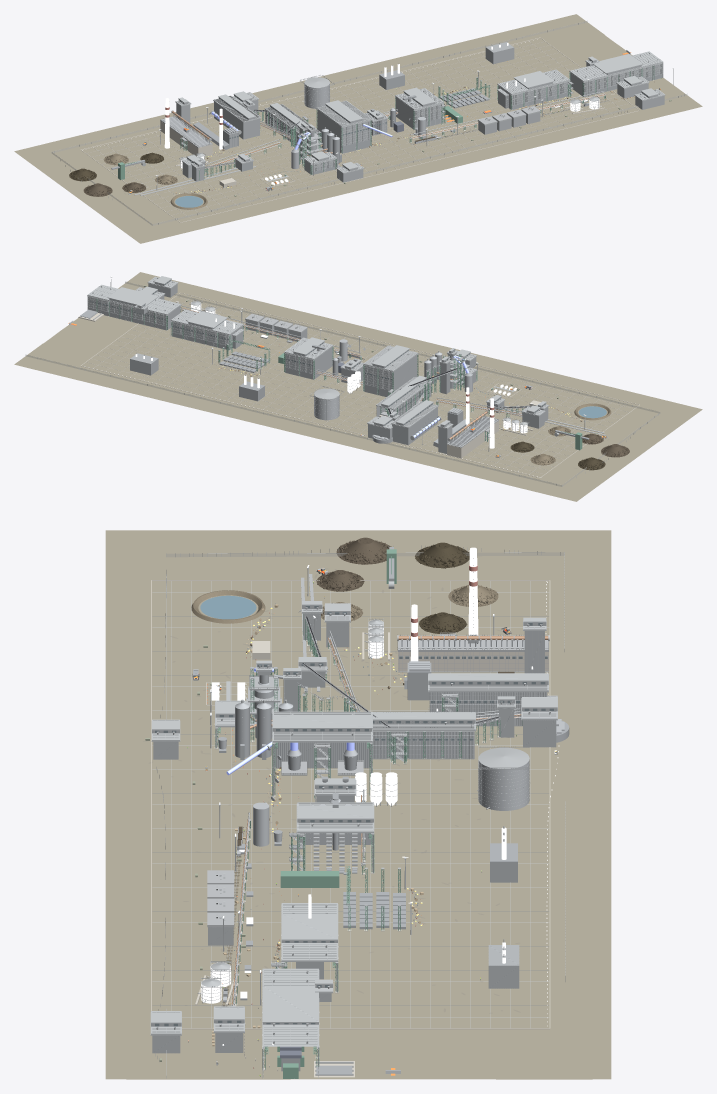
Rendered from longproducts.glb.
The picture shows the model from 3 angles, top to bottom: view 1: azimuth 30°, elevation 25°; view 2: azimuth 150°, elevation 25°; view 3: azimuth 270°, elevation 25°; orthographic projection. The views are drawn at different scales.
Visible parts, largest first — view 1: structure/mat_8b8166_54, structure/clad, structure/roof, structure/seam, galv/galv, structure/steelD, structure/green, structure/concrete, fence/mesh, structure/gray, structure/white, structure/waste (+4 smaller); view 2: structure/mat_8b8166_54, structure/clad, structure/roof, structure/seam, structure/steelD, galv/galv, structure/concrete, structure/green, fence/mesh, structure/gray, structure/waste, structure/white (+6 smaller); view 3: structure/mat_8b8166_54, structure/roof, structure/seam, structure/clad, galv/galv, structure/steelD, structure/green, structure/concrete, structure/gray, structure/waste, structure/white, structure/silo (+9 smaller).
Boxes of the visible parts, box(x1,y1,x2,y2) form: structure/mat_8b8166_54: box(14, 14, 702, 243); structure/clad: box(176, 42, 664, 182); structure/roof: box(175, 51, 665, 181); structure/seam: box(87, 42, 663, 216); galv/galv: box(134, 41, 673, 195); structure/steelD: box(156, 59, 673, 176); structure/green: box(180, 65, 654, 180); structure/concrete: box(81, 37, 654, 222); fence/mesh: box(51, 21, 687, 225); structure/gray: box(163, 83, 441, 169); structure/white: box(82, 39, 599, 179); structure/waste: box(104, 100, 608, 209); structure/mat_8b8166_54: box(14, 272, 702, 501); structure/clad: box(87, 279, 548, 453); structure/roof: box(87, 276, 548, 429); structure/seam: box(87, 277, 633, 473); structure/steelD: box(80, 277, 586, 447); galv/galv: box(80, 277, 606, 451); structure/concrete: box(78, 293, 639, 477); structure/green: box(96, 299, 523, 441); fence/mesh: box(25, 282, 660, 486); structure/gray: box(313, 339, 496, 446); structure/waste: box(181, 310, 611, 465); structure/white: box(84, 302, 539, 477); structure/mat_8b8166_54: box(105, 530, 611, 1079); structure/roof: box(151, 601, 557, 1046); structure/seam: box(152, 581, 555, 1077); structure/clad: box(151, 605, 557, 1053); galv/galv: box(150, 558, 557, 1078); structure/steelD: box(210, 567, 569, 1075); structure/green: box(215, 614, 522, 1078); structure/concrete: box(151, 580, 550, 1077); structure/gray: box(223, 640, 529, 1002); structure/waste: box(191, 585, 498, 1006); structure/white: box(201, 547, 559, 1026); structure/silo: box(239, 619, 506, 998).
Size of the model in its own units: 1015 by 84.04 by 395.
Materials: 53 (9 with a texture image).
